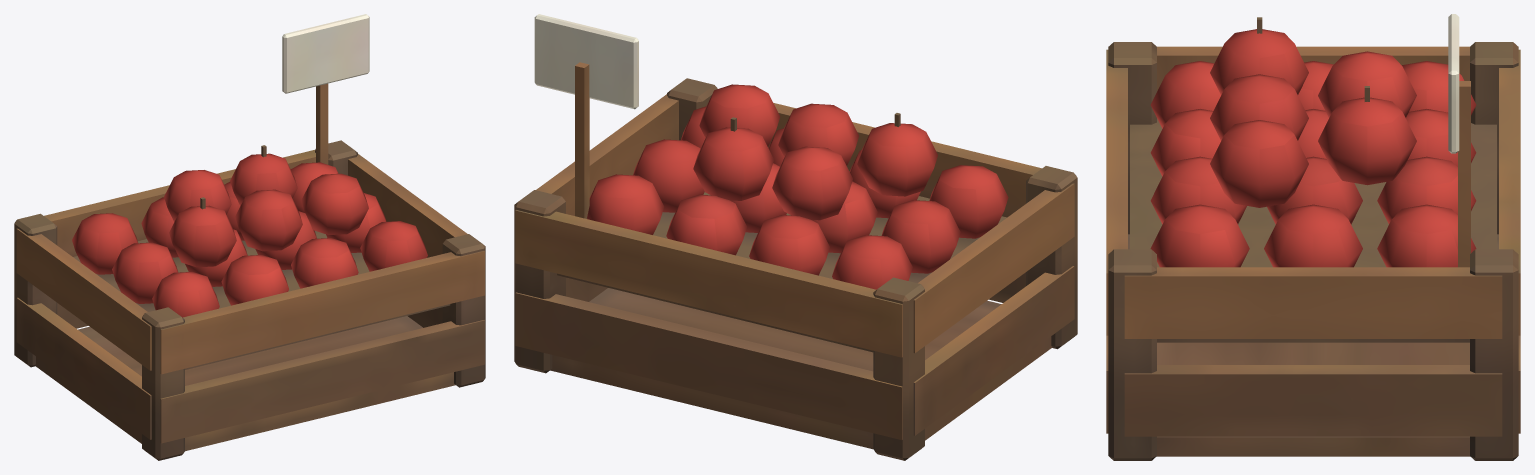
Rendered from crate_apples.glb.
3 views of the same model, side by side, from view 1: azimuth 30°, elevation 25°; view 2: azimuth 150°, elevation 25°; view 3: azimuth 270°, elevation 25° (orthographic). The views are drawn at different scales.
Visible parts, largest first — view 1: crate_apples; view 2: crate_apples; view 3: crate_apples.
Boxes of the visible parts, x1,y1,x2,y2 form: crate_apples: (14, 14, 485, 460); crate_apples: (514, 14, 1077, 460); crate_apples: (1106, 14, 1520, 460).
Bounding box in the file's own units: 0.507 × 0.4025 × 0.384.
4 materials, 4 textured.
